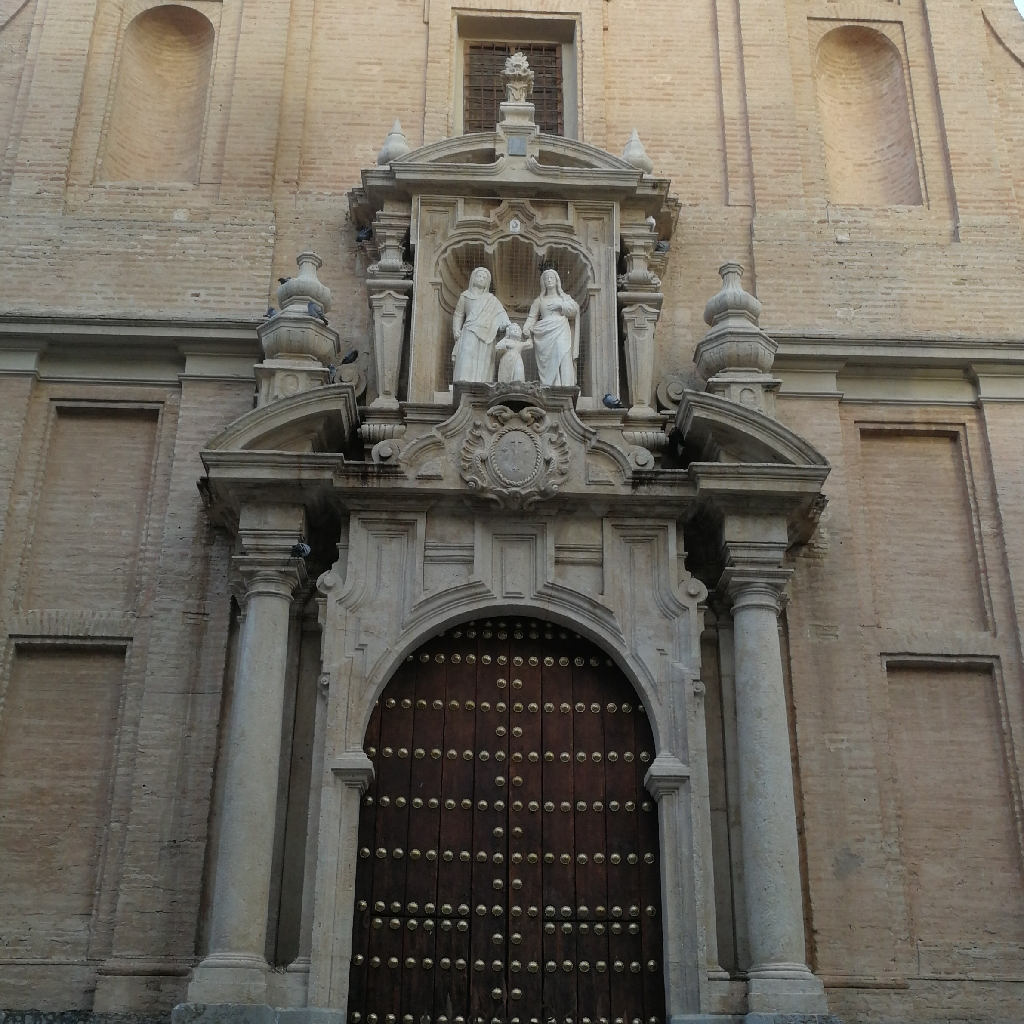arco-medio-punto: (345, 589, 676, 811)
fronton-curvo: (386, 124, 650, 191)
fronton-partido: (192, 380, 838, 496)
